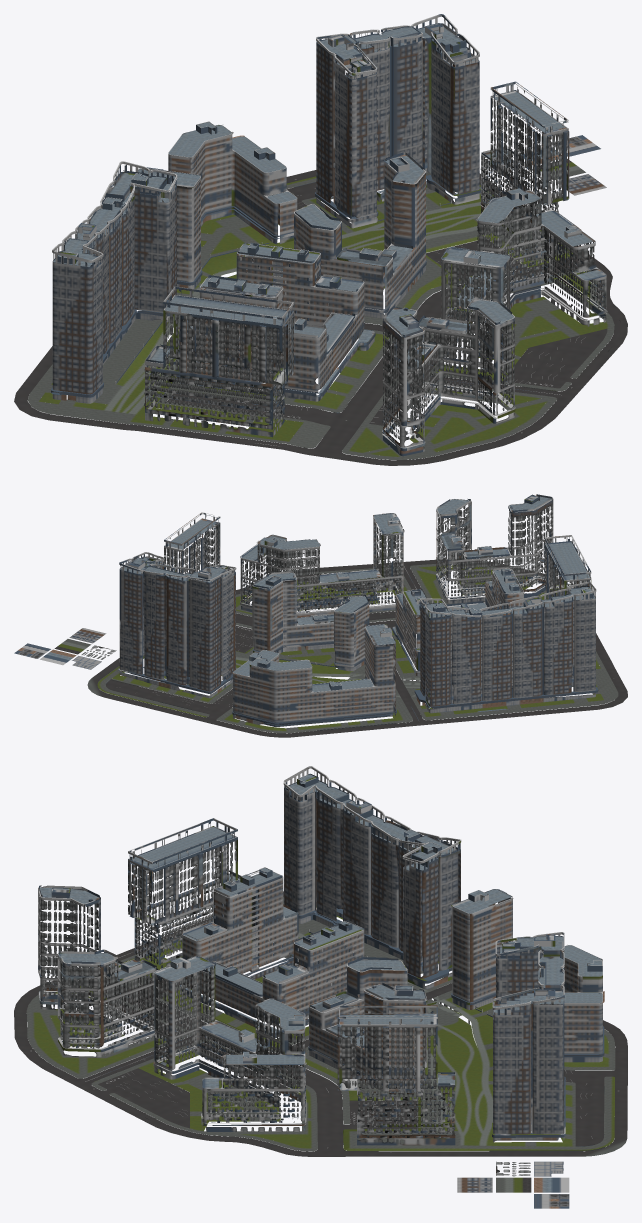
The model's file is cityBaked.fbx.
3 renders of one model, top to bottom at view 1: azimuth 30°, elevation 25°; view 2: azimuth 150°, elevation 25°; view 3: azimuth 270°, elevation 25°, orthographic. The views are drawn at different scales.
Visible parts, largest first — view 1: terrain, Cube.192, Cube.002, roads, Cube.009, Plane.001, Plane.056, Plane.057, Plane.048, Plane.036, Cube, Plane.061; view 2: Cube.002, Cube.192, terrain, Plane.048, Plane.056, Plane.057, roads, Plane.036, Plane.001, Cube, Cube.009, Plane.061; view 3: terrain, Cube.002, roads, Plane.001, Plane.056, Cube.192, Plane.057, Cube, Plane.048, Cube.009, Plane.036, Plane.061.
Part boxes in pixels (<box>): terrain: <box>28,172,614,459</box>; Cube.192: <box>315,14,480,228</box>; Cube.002: <box>51,161,177,403</box>; roads: <box>14,170,627,465</box>; Cube.009: <box>144,286,293,437</box>; Plane.001: <box>177,242,375,401</box>; Plane.056: <box>440,188,607,372</box>; Plane.057: <box>382,297,515,456</box>; Plane.048: <box>138,121,297,290</box>; Plane.036: <box>294,152,426,318</box>; Cube: <box>480,81,569,256</box>; Plane.061: <box>486,135,606,195</box>; Cube.002: <box>414,582,598,713</box>; Cube.192: <box>118,552,236,698</box>; terrain: <box>97,563,618,733</box>; Plane.048: <box>232,624,396,726</box>; Plane.056: <box>240,513,404,617</box>; Plane.057: <box>436,494,553,603</box>; roads: <box>87,559,627,737</box>; Plane.036: <box>252,571,369,671</box>; Plane.001: <box>392,567,523,676</box>; Cube: <box>164,512,220,573</box>; Cube.009: <box>544,535,591,599</box>; Plane.061: <box>14,628,116,669</box>; terrain: <box>26,897,615,1151</box>; Cube.002: <box>283,766,461,989</box>; roads: <box>14,891,627,1156</box>; Plane.001: <box>180,867,364,1040</box>; Plane.056: <box>153,955,306,1131</box>; Cube.192: <box>492,932,565,1142</box>; Plane.057: <box>38,885,156,1057</box>; Cube: <box>337,1005,455,1145</box>; Plane.048: <box>451,889,604,1062</box>; Cube.009: <box>128,818,241,970</box>; Plane.036: <box>308,957,427,1092</box>; Plane.061: <box>457,1161,569,1208</box>.
Bounding box in the file's own units: 49369 × 11751 × 40058.
